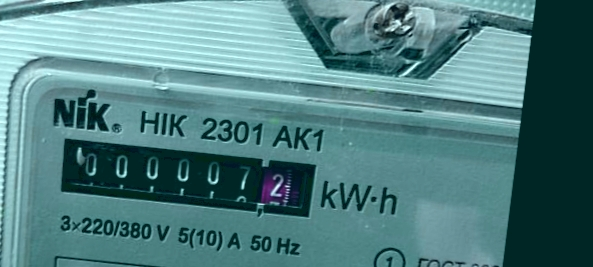0: (139, 156, 161, 185), (78, 153, 99, 182), (109, 155, 130, 184), (201, 161, 220, 191), (171, 158, 190, 187)
2: (265, 173, 284, 204)
7: (231, 166, 250, 196)
screen: (47, 127, 326, 233)
